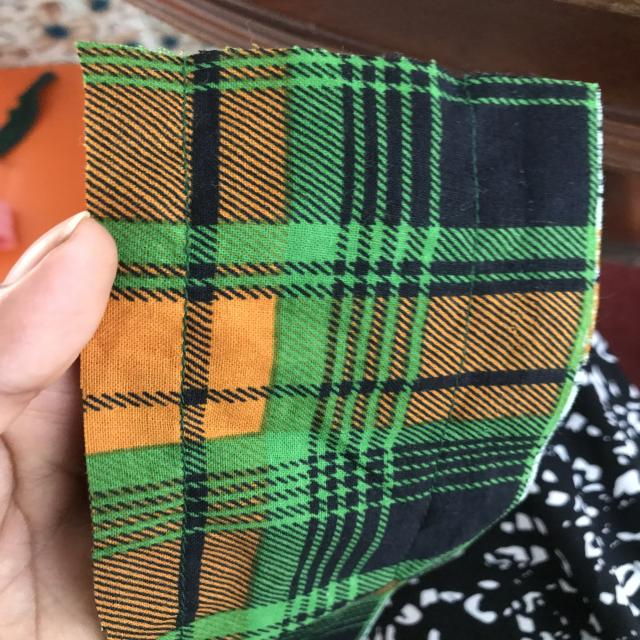good: (462, 136, 494, 207)
